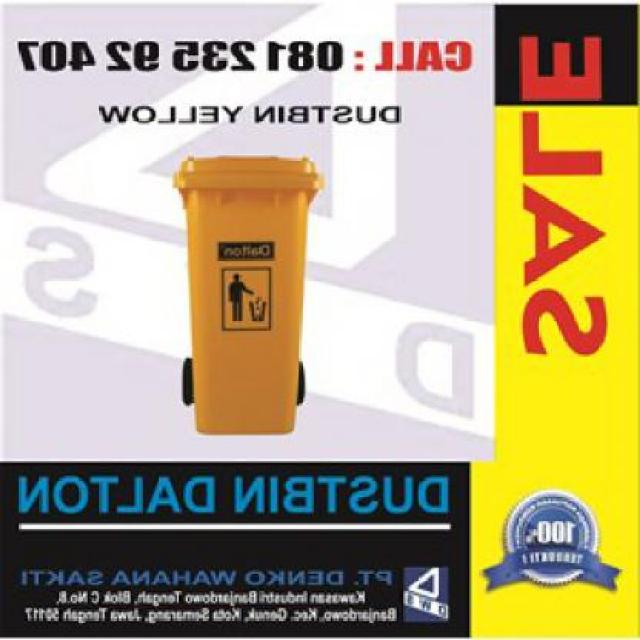garbage container: (168, 147, 327, 448)
